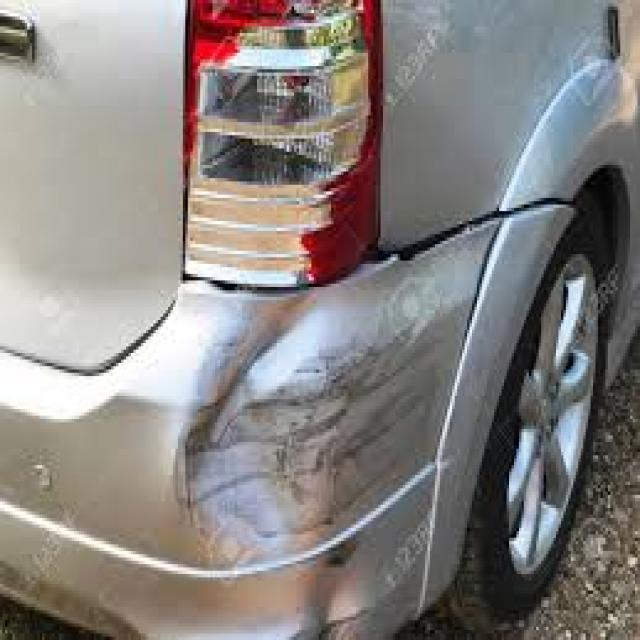damaged-tail-light: (181, 0, 384, 286)
